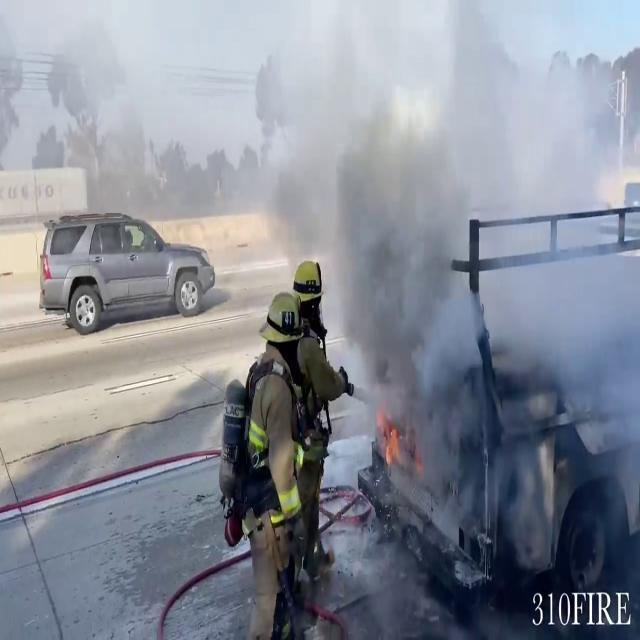Fire: (374, 402, 404, 473)
Smoke: (233, 3, 640, 527)
